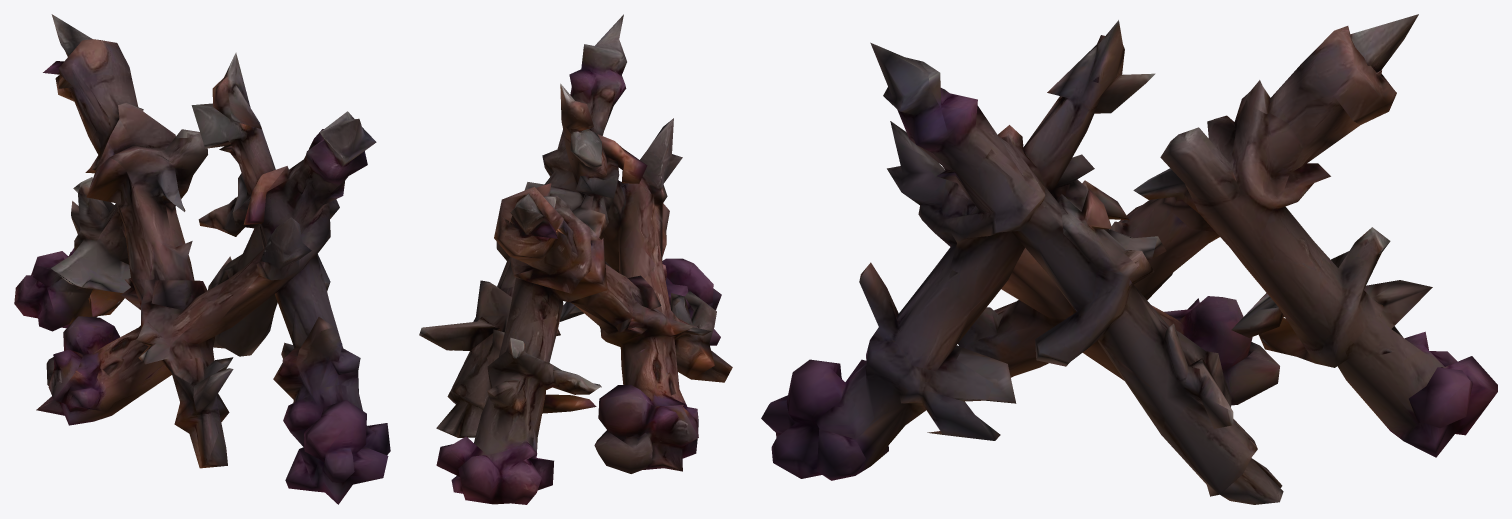
The model's file is deep-spikewall.glb.
3 views of the same model, side by side, from view 1: azimuth 30°, elevation 25°; view 2: azimuth 150°, elevation 25°; view 3: azimuth 270°, elevation 25° (orthographic). The views are drawn at different scales.
Visible parts, largest first — view 1: tripo_node_1760c78c-aa3a-419d-bd5c-111e68d5eb73; view 2: tripo_node_1760c78c-aa3a-419d-bd5c-111e68d5eb73; view 3: tripo_node_1760c78c-aa3a-419d-bd5c-111e68d5eb73.
Boxes of the visible parts, x1=… form: tripo_node_1760c78c-aa3a-419d-bd5c-111e68d5eb73: x1=14, y1=14, x2=390, y2=504; tripo_node_1760c78c-aa3a-419d-bd5c-111e68d5eb73: x1=419, y1=14, x2=732, y2=504; tripo_node_1760c78c-aa3a-419d-bd5c-111e68d5eb73: x1=761, y1=14, x2=1497, y2=504.
Size of the model in its own units: 0.5514 by 0.6842 by 1.
1 material, 1 textured.
